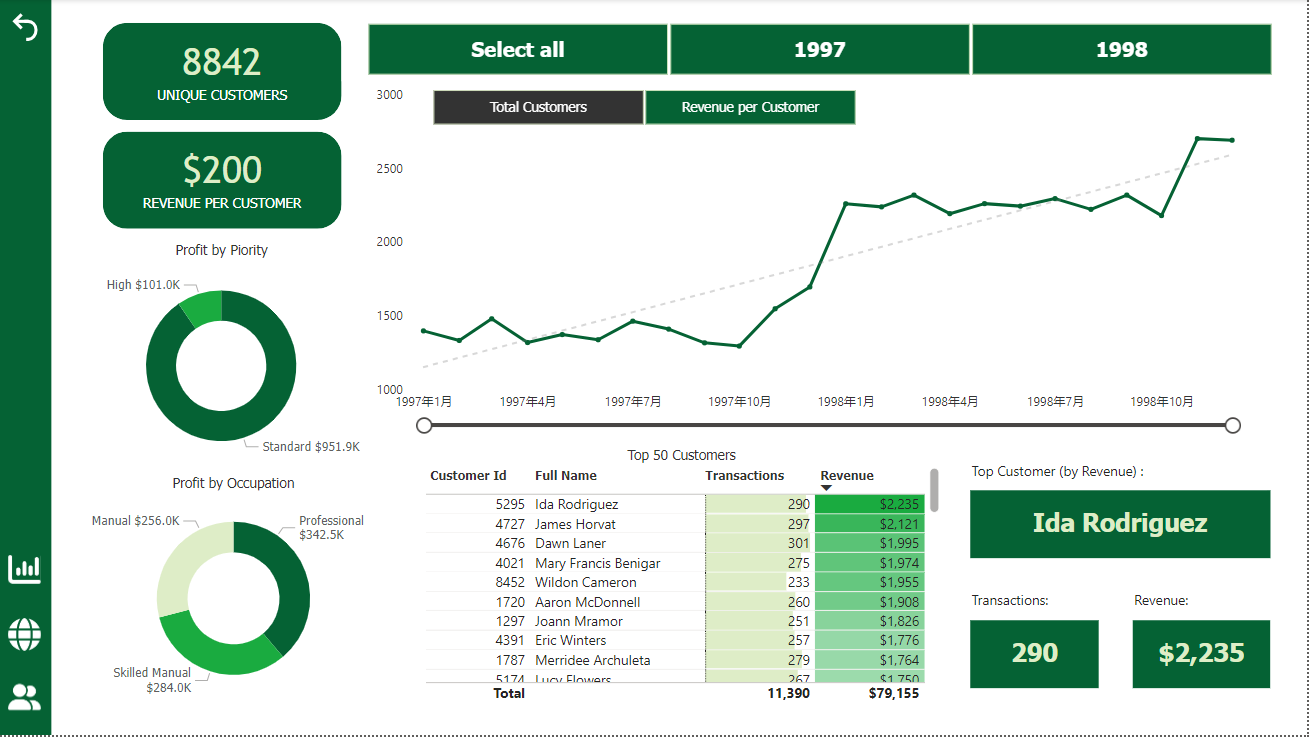

The dashboard page shown, as its layout file describes it:
{"tool":"powerbi","page":{"name":"Customer Detail","canvas":[1280,720],"ordinal":2},"visuals":[{"type":"shape","box":[101.2,23.2,233.5,95.3],"z":0},{"type":"card","fields":{"Values":["Measure Table.Unique Customers"]},"box":[135.7,17.1,165,101.5],"z":1000},{"type":"shape","box":[0,0,51.3,720],"z":2000},{"type":"shape","box":[101.2,129.6,233.5,95.3],"z":3000},{"type":"card","fields":{"Values":["Measure Table.Revenue per Customer"]},"box":[135.5,119.8,165,107.6],"z":4000},{"type":"donutChart","title":"Profit by Piority","fields":{"Category":["Customers.Piority"],"Y":["Measure Table.Total Profit"]},"box":[70.9,237.1,293.4,227.4],"z":5000},{"type":"donutChart","title":"Profit by Occupation","fields":{"Y":["Measure Table.Total Profit"],"Category":["Customers.occupation"]},"box":[70.9,464.5,316.6,227.4],"z":6000},{"type":"lineChart","title":"Revenue Trends","fields":{"Y":["Measure Table.Total Customers"],"Category":["Calendar.Date Hierarchy.Year","Calendar.Date Hierarchy.Quarter","Calendar.Date Hierarchy.Start of Month","Calendar.Date Hierarchy.Start of Week"]},"box":[364.3,79.5,878.9,348.4],"z":7000},{"type":"slicer","fields":{"Values":["Parameter.Parameter"]},"box":[398.5,81.9,463.3,47.7],"z":8000},{"type":"slicer","fields":{"Values":["Calendar.Year"]},"box":[334.9,17.1,933.9,63.6],"z":9000},{"type":"tableEx","title":"Top 50 Customers","fields":{"Values":["Customers.customer_id","Customers.Full Name","Measure Table.Total Transactions","Measure Table.Total Revenue"]},"box":[410.7,437.6,513.4,254.3],"z":10000},{"type":"card","fields":{"Values":["Customers.Full Name"]},"box":[949.8,480.4,293.4,66],"z":11000},{"type":"textbox","box":[946.1,447.4,293.4,33],"z":12000},{"type":"card","fields":{"Values":["Measure Table.Total Transactions"]},"box":[949.8,607.5,125.9,66],"z":13000},{"type":"card","fields":{"Values":["Measure Table.Total Revenue"]},"box":[1108.7,607.5,134.5,66],"z":14000},{"type":"textbox","box":[946.1,573.3,125.9,33],"z":15000},{"type":"textbox","box":[1105.1,573.3,125.9,33],"z":16000},{"type":"actionButton","box":[4.9,537.9,41.6,40.3],"z":17000},{"type":"actionButton","box":[4.9,601.6,41.6,40.3],"z":18000},{"type":"actionButton","box":[4.9,662.8,41.6,40.3],"z":19000},{"type":"actionButton","box":[7.3,7.3,36.7,40.3],"z":20000}]}

Visuals, with their boxes on the page's 1280x720 design canvas (x1, y1, x2, y2). These are canvas units, not pixel positions in the 1309x738 screenshot, which may show the page scaled, cropped or inside an application window:
shape: bbox=[101, 23, 335, 118]
card - Measure Table.Unique Customers: bbox=[136, 17, 301, 119]
shape: bbox=[0, 0, 51, 720]
shape: bbox=[101, 130, 335, 225]
card - Measure Table.Revenue per Customer: bbox=[136, 120, 300, 227]
"Profit by Piority" donutChart: bbox=[71, 237, 364, 464]
"Profit by Occupation" donutChart: bbox=[71, 464, 388, 692]
"Revenue Trends" lineChart: bbox=[364, 80, 1243, 428]
slicer - Parameter.Parameter: bbox=[398, 82, 862, 130]
slicer - Calendar.Year: bbox=[335, 17, 1269, 81]
"Top 50 Customers" tableEx: bbox=[411, 438, 924, 692]
card - Customers.Full Name: bbox=[950, 480, 1243, 546]
textbox: bbox=[946, 447, 1240, 480]
card - Measure Table.Total Transactions: bbox=[950, 608, 1076, 674]
card - Measure Table.Total Revenue: bbox=[1109, 608, 1243, 674]
textbox: bbox=[946, 573, 1072, 606]
textbox: bbox=[1105, 573, 1231, 606]
actionButton: bbox=[5, 538, 46, 578]
actionButton: bbox=[5, 602, 46, 642]
actionButton: bbox=[5, 663, 46, 703]
actionButton: bbox=[7, 7, 44, 48]
